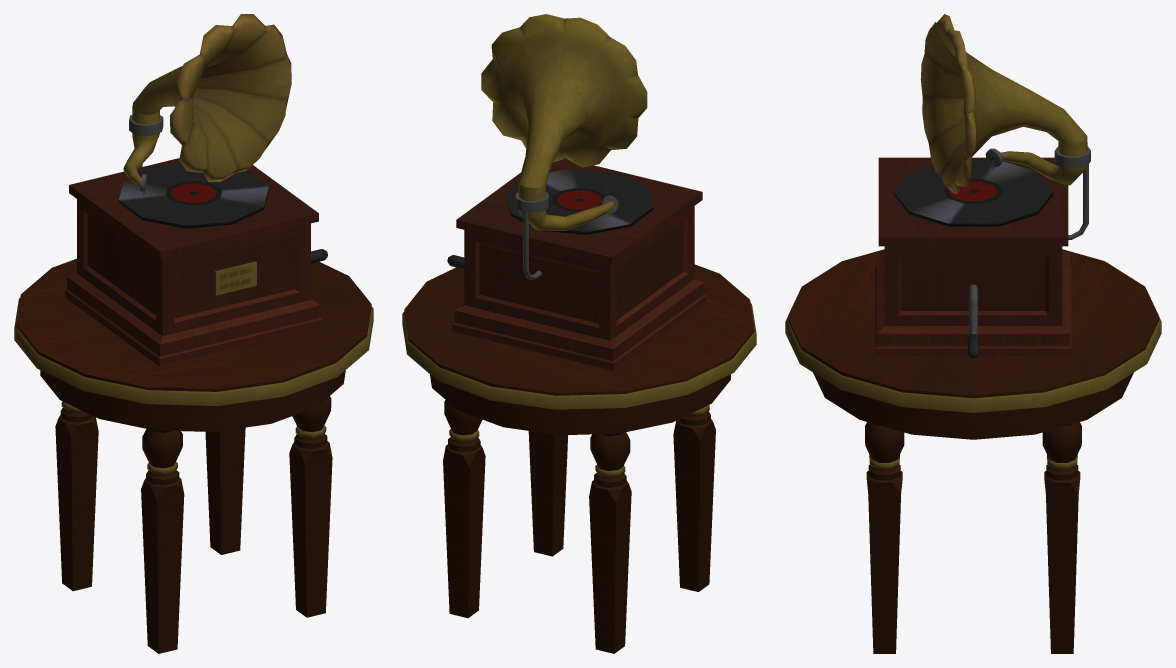
The model's file is gramophone_on_the_table._low_poly.glb.
The picture shows the model from 3 angles, left to right: view 1: azimuth 30°, elevation 25°; view 2: azimuth 150°, elevation 25°; view 3: azimuth 270°, elevation 25°; orthographic projection. The views are drawn at different scales.
Parts seen in each view (by area): view 1: Granophone_Table, Gramophone; view 2: Gramophone, Granophone_Table; view 3: Gramophone, Granophone_Table.
Boxes of the visible parts, bbox=[...] form: Granophone_Table: bbox=[14, 258, 373, 653]; Gramophone: bbox=[65, 14, 327, 366]; Gramophone: bbox=[447, 14, 706, 370]; Granophone_Table: bbox=[402, 264, 756, 653]; Gramophone: bbox=[875, 14, 1090, 358]; Granophone_Table: bbox=[785, 249, 1161, 653].
Size of the model in its own units: 4.23 by 7.47 by 4.23.
2 materials, 2 textured.
